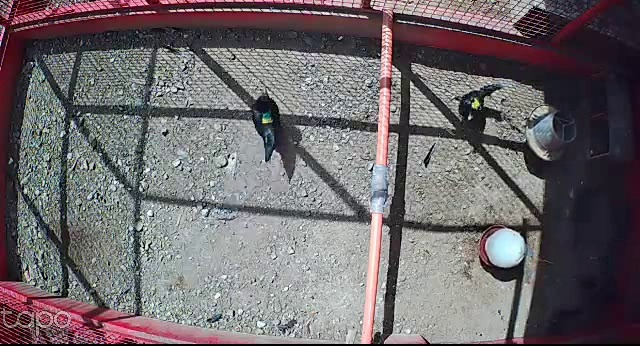Chicken: (251, 86, 284, 163), (456, 82, 501, 128)
Drinker: (477, 224, 528, 270)
Feeder: (525, 103, 579, 163)
Saddle_Color_Yellow: (470, 98, 481, 110)
Saddle_Color_YellowGreen: (262, 111, 273, 125)
